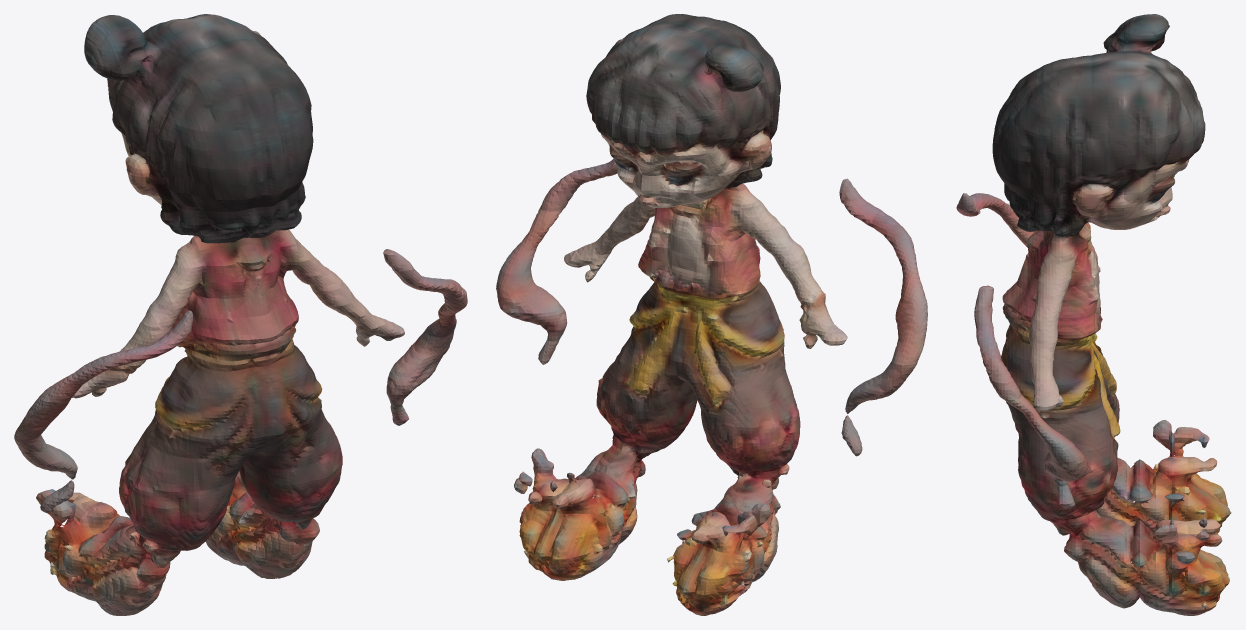
Rendered from nezha.glb.
3 renders of one model, left to right at view 1: azimuth 30°, elevation 25°; view 2: azimuth 150°, elevation 25°; view 3: azimuth 270°, elevation 25°, orthographic. The views are drawn at different scales.
Parts seen in each view (by area): view 1: world; view 2: world; view 3: world.
Part boxes in pixels (bbox=[...]): world: bbox=[14, 14, 467, 615]; world: bbox=[496, 14, 927, 615]; world: bbox=[956, 14, 1231, 615].
Bounding box in the file's own units: 0.7797 × 0.9866 × 0.467.
